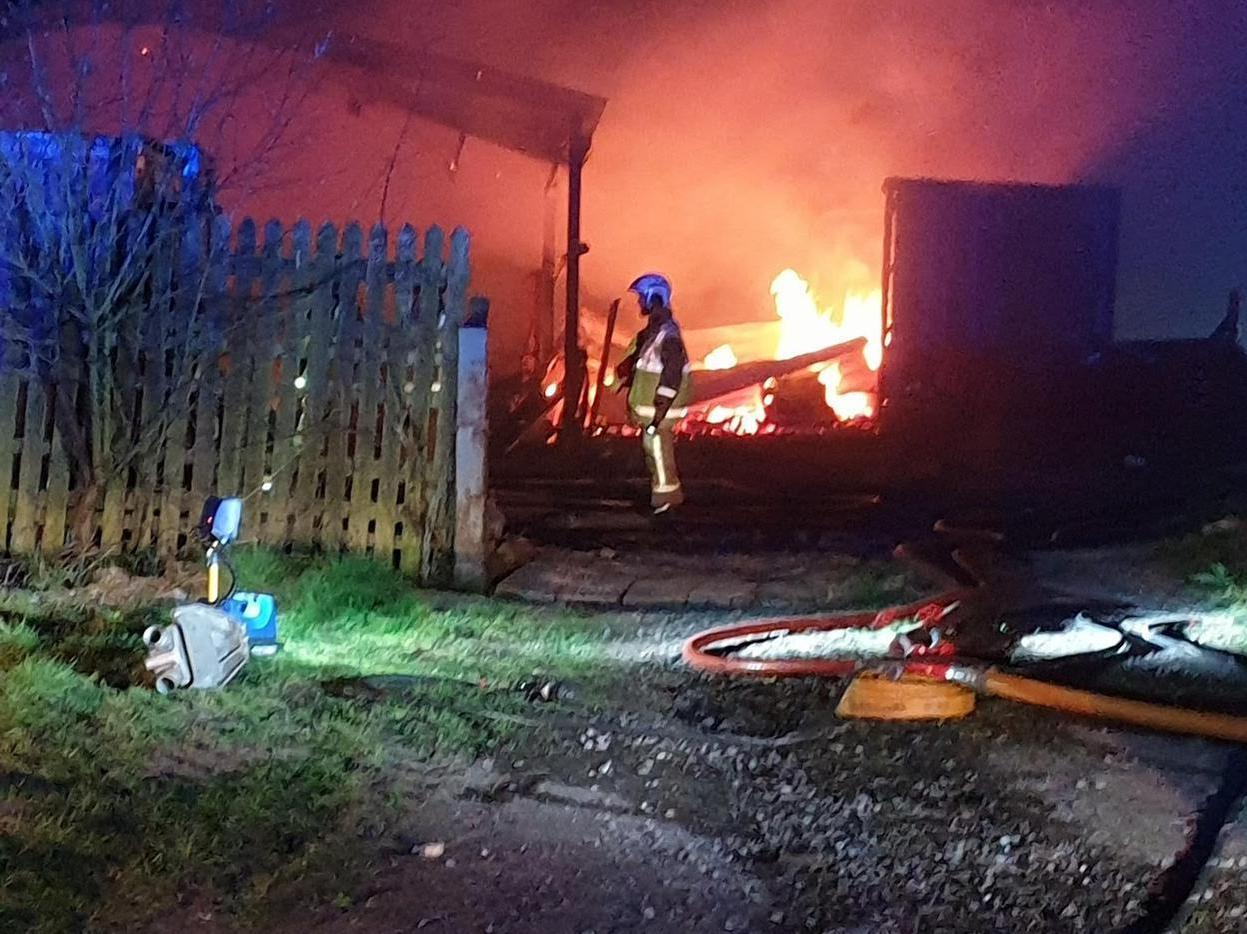Fire: (773, 266, 895, 429), (707, 396, 772, 439), (689, 344, 739, 374)
